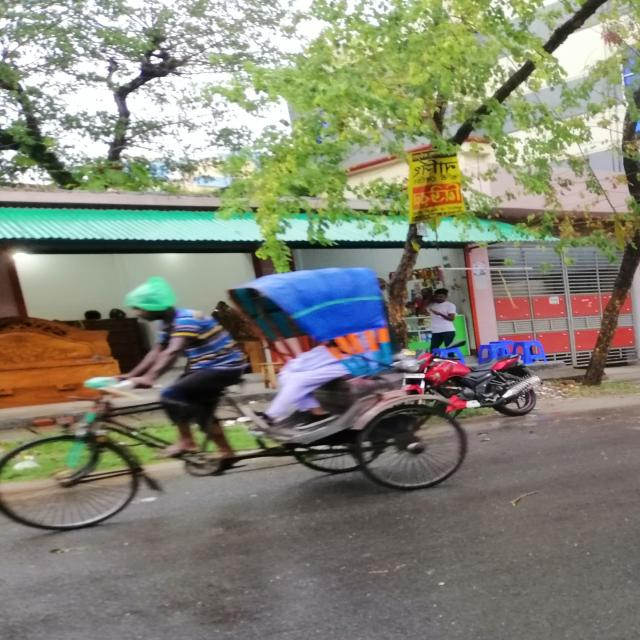Motorbike: (376, 352, 544, 422)
Rickshaw: (1, 265, 467, 533)
